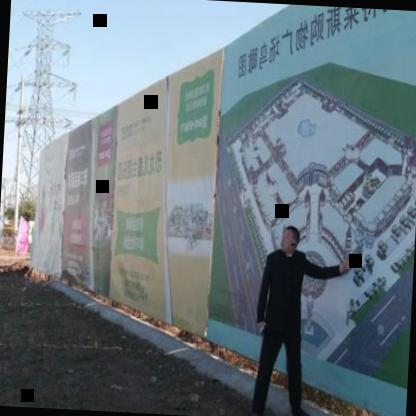head: (279, 221, 301, 255)
